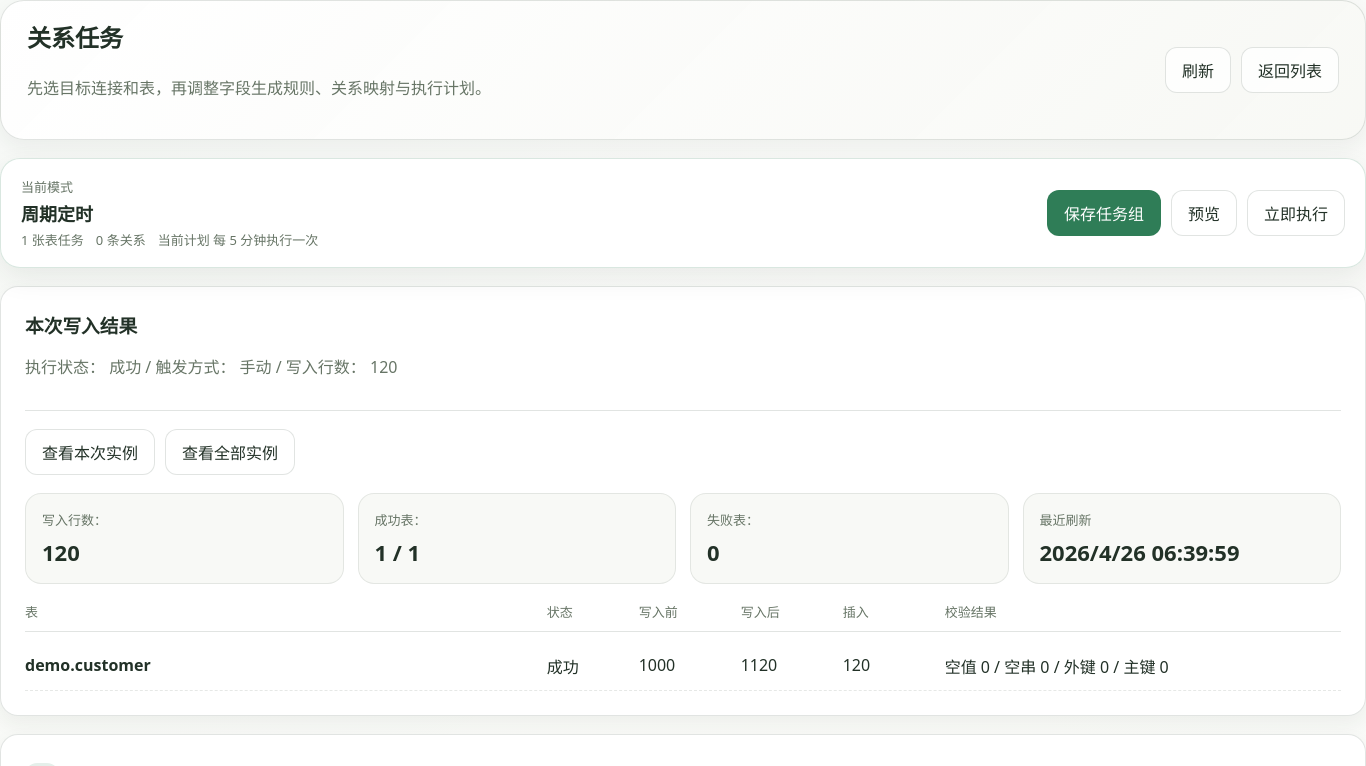
Test case: RelationalTasksView › renders top action dock and execution summary after manual run
The image size is (1366, 766).
Expected: the element with test id "editor-action-dock" shows "保存任务组", [1047, 190, 1161, 236]
Expected: the element with test id "execution-summary" shows "本次写入结果", [25, 313, 137, 338]
Click the button with test id "run-current": point(1296, 213) [1247, 190, 1345, 236]
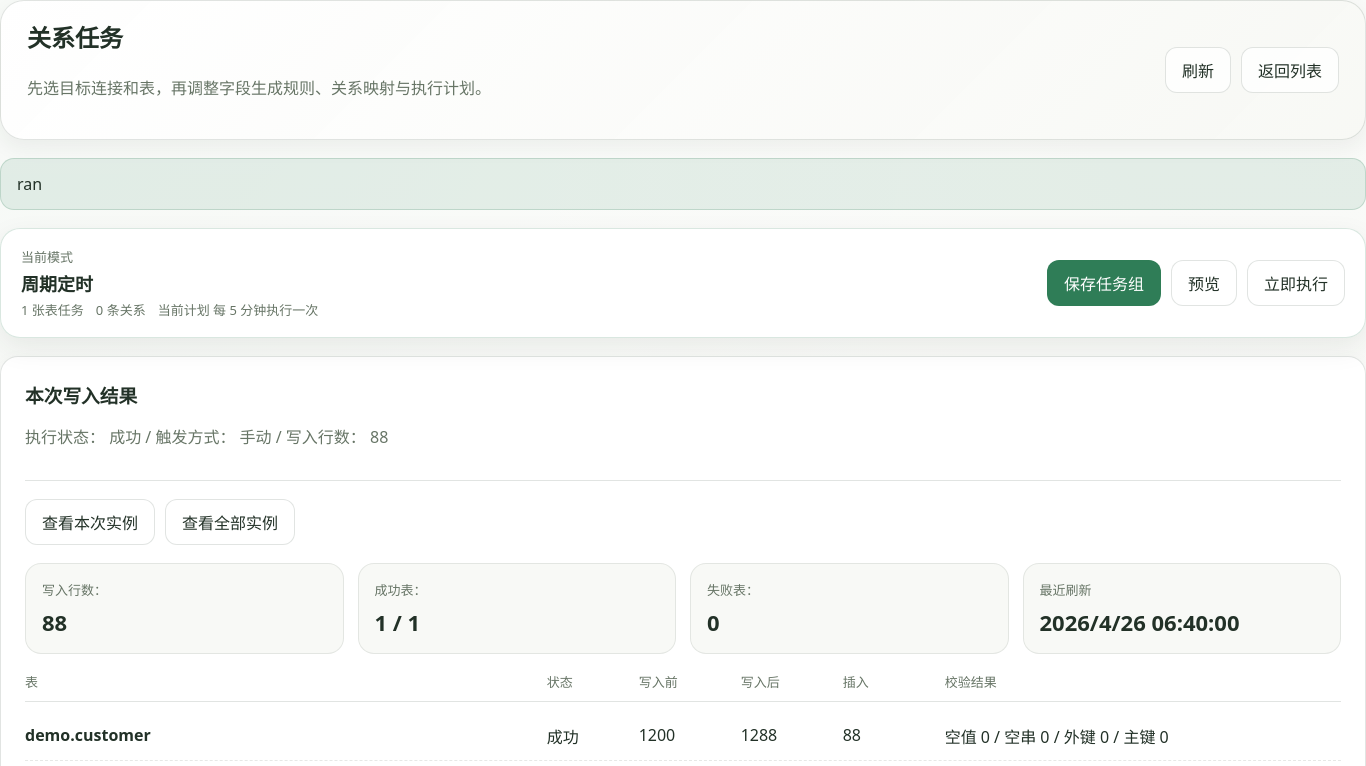
Result: the element with test id "execution-summary" shows "88" at [42, 607, 67, 637]
Result: the element with test id "execution-summary" shows "1200" at [639, 724, 675, 746]
Result: the element with test id "execution-summary" shows "1288" at [741, 724, 777, 746]
